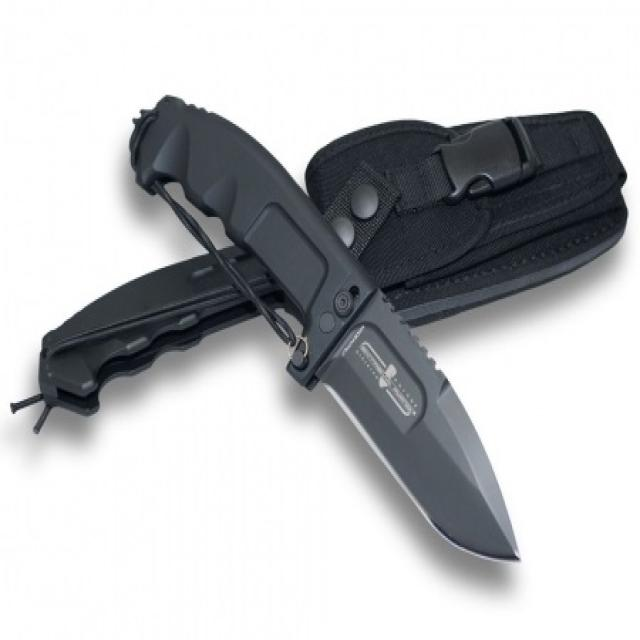knife: (128, 91, 525, 570)
